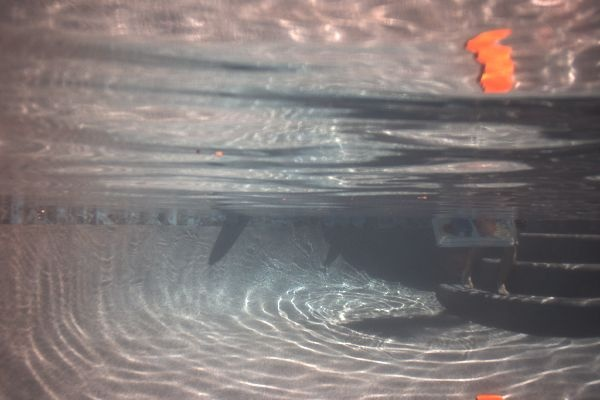path: (475, 392, 505, 400)
torpille: (432, 215, 518, 247)
torpille_target: (476, 216, 496, 236), (442, 224, 454, 234)
